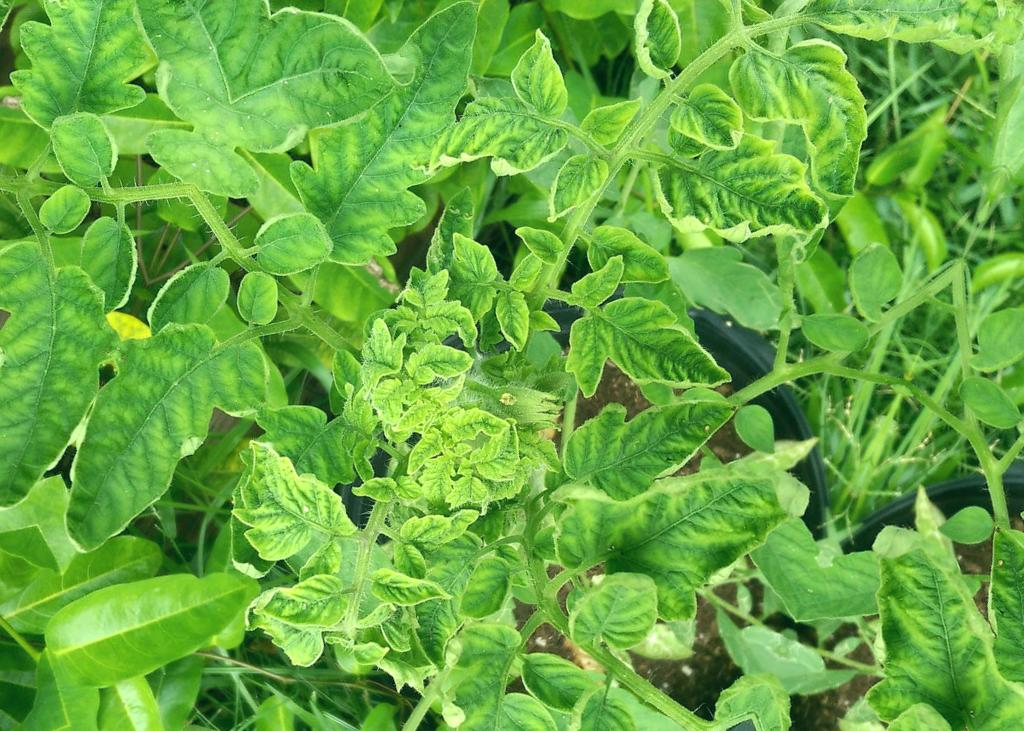Tomato leaf yellow virus: (35, 285, 307, 604), (505, 387, 800, 677), (269, 0, 518, 299), (520, 224, 772, 467), (24, 500, 276, 731), (687, 8, 943, 234), (210, 0, 425, 213), (626, 104, 860, 292), (336, 589, 625, 731), (540, 338, 732, 540), (420, 43, 598, 217), (207, 433, 375, 595), (535, 537, 689, 688), (529, 0, 762, 83), (529, 134, 621, 238), (611, 0, 708, 88), (360, 551, 455, 630), (398, 483, 481, 565), (398, 325, 484, 403), (463, 408, 539, 495), (478, 279, 548, 358), (504, 213, 579, 274)
